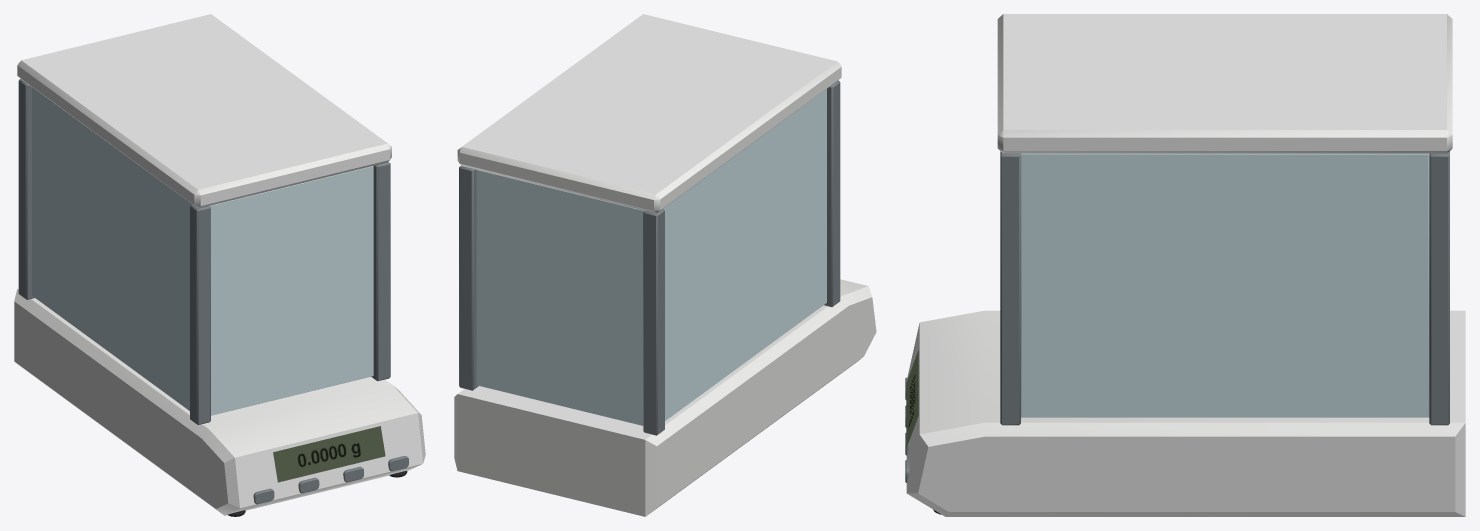
The model's file is analytical-balance.glb.
The picture shows the model from 3 angles, left to right: view 1: azimuth 30°, elevation 25°; view 2: azimuth 150°, elevation 25°; view 3: azimuth 270°, elevation 25°; orthographic projection. The views are drawn at different scales.
Parts seen in each view (by area): view 1: Analytical_Balance; view 2: Analytical_Balance; view 3: Analytical_Balance.
Boxes of the visible parts, x1,y1,x2,y2 form: Analytical_Balance: [14, 14, 425, 516]; Analytical_Balance: [454, 14, 876, 516]; Analytical_Balance: [905, 14, 1465, 516].
Bounding box in the file's own units: 0.22 × 0.33 × 0.431.
7 materials, 1 textured.
